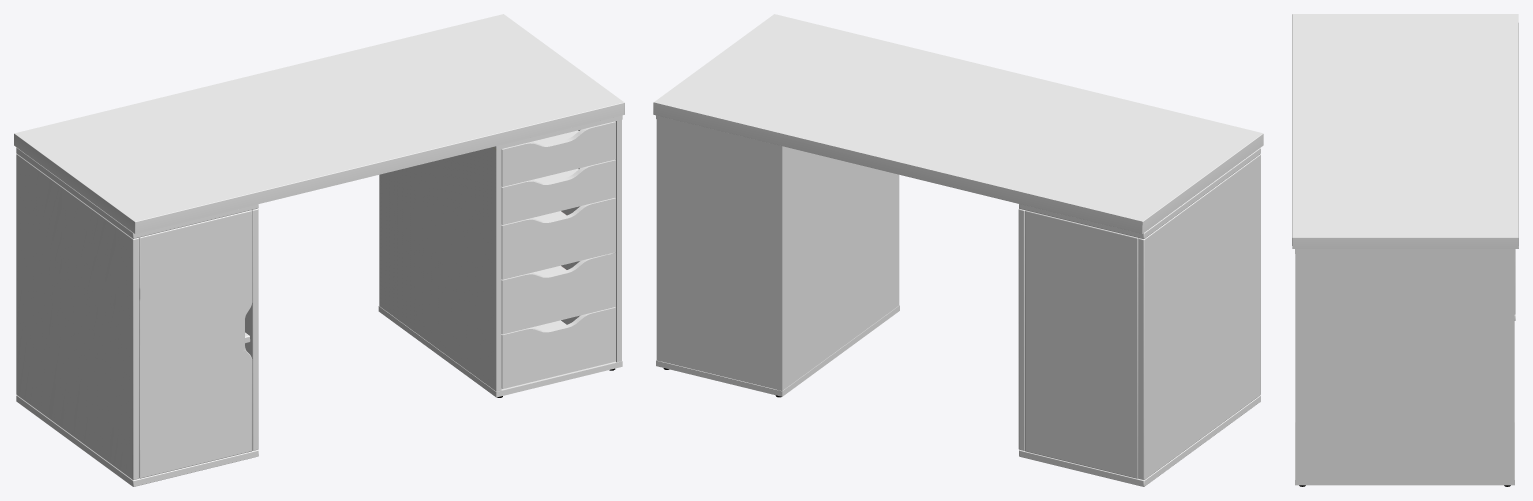
Rendered from lagkapten_alex_biurko_09521604.glb.
3 renders of one model, left to right at view 1: azimuth 30°, elevation 25°; view 2: azimuth 150°, elevation 25°; view 3: azimuth 270°, elevation 25°, orthographic. The views are drawn at different scales.
Visible parts, largest first — view 1: lagkapten_alex_biurko_09521604; view 2: lagkapten_alex_biurko_09521604; view 3: lagkapten_alex_biurko_09521604.
Part boxes in pixels (left/top/right/bottom): lagkapten_alex_biurko_09521604: left=14, top=14, right=624, bottom=486; lagkapten_alex_biurko_09521604: left=653, top=14, right=1263, bottom=486; lagkapten_alex_biurko_09521604: left=1292, top=14, right=1518, bottom=486.
Bounding box in the file's own units: 1.4 × 0.7342 × 0.6.
1 material, 1 textured.
